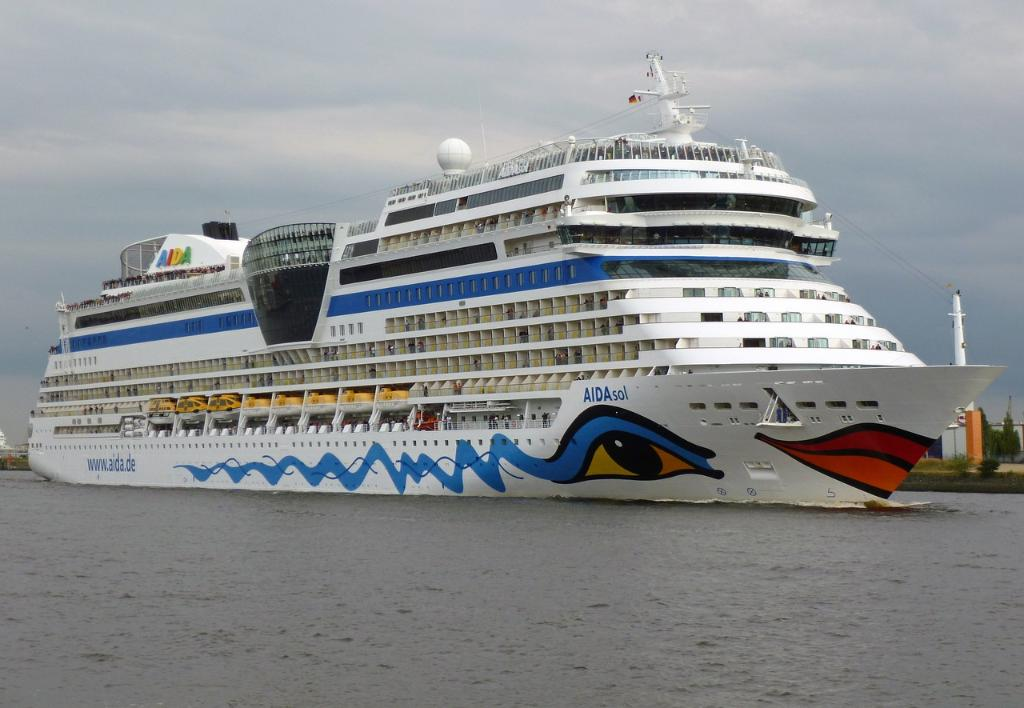PassengerShip: (20, 46, 1012, 507)
